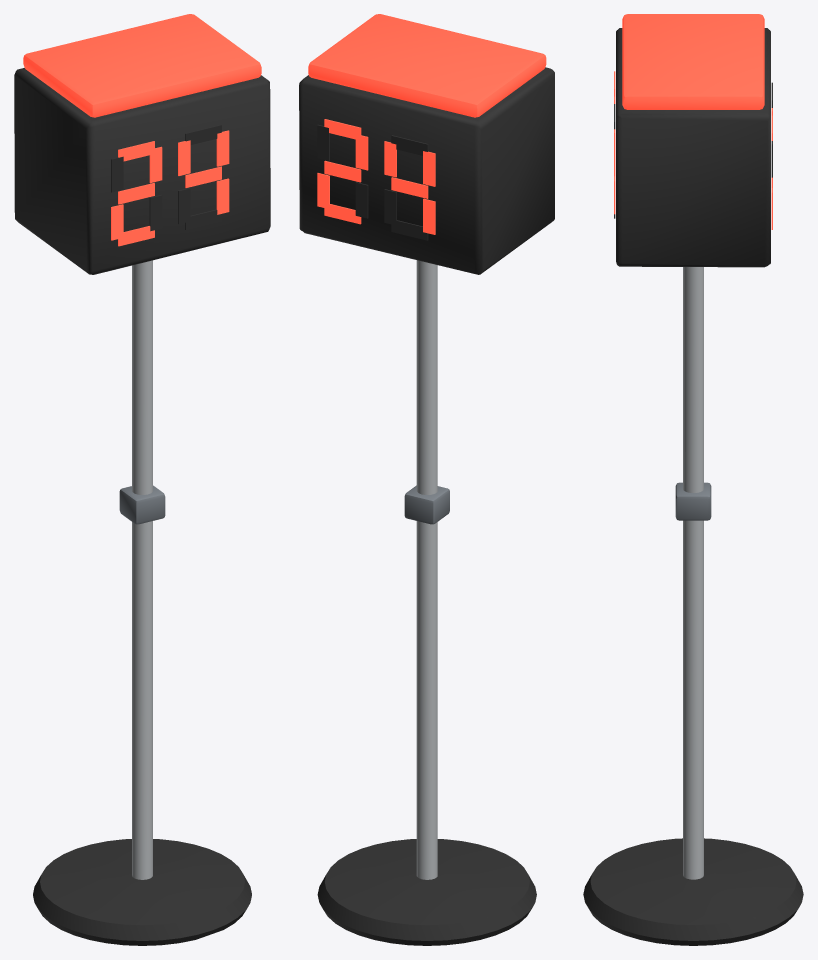
Rendered from vinish-portable-shot-clock.glb.
3 renders of one model, left to right at view 1: azimuth 30°, elevation 25°; view 2: azimuth 150°, elevation 25°; view 3: azimuth 270°, elevation 25°, orthographic.
Parts seen in each view (by area): view 1: Portable_Shot_Clock; view 2: Portable_Shot_Clock; view 3: Portable_Shot_Clock.
Part boxes in pixels (left/top/right/bottom): Portable_Shot_Clock: left=14, top=14, right=270, bottom=945; Portable_Shot_Clock: left=299, top=14, right=554, bottom=945; Portable_Shot_Clock: left=583, top=14, right=803, bottom=945.
Size of the model in its own units: 0.62 by 2.63 by 0.62.
